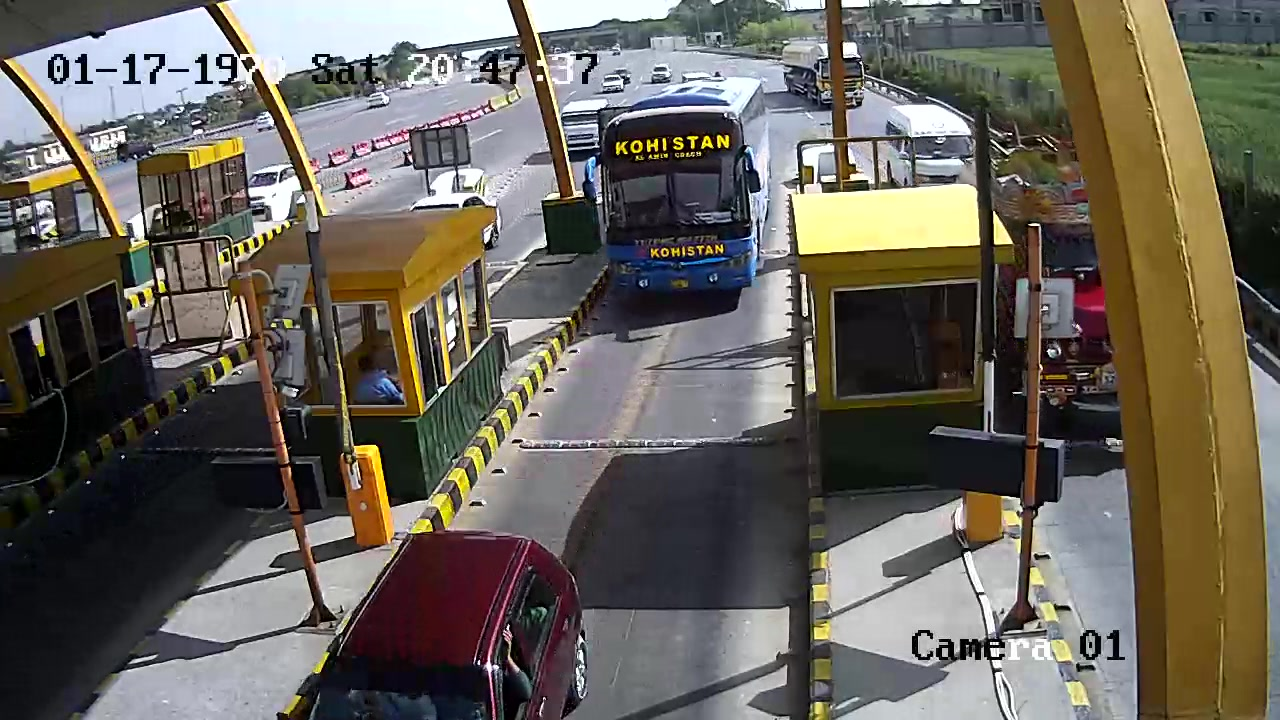F4: (594, 68, 778, 315)
